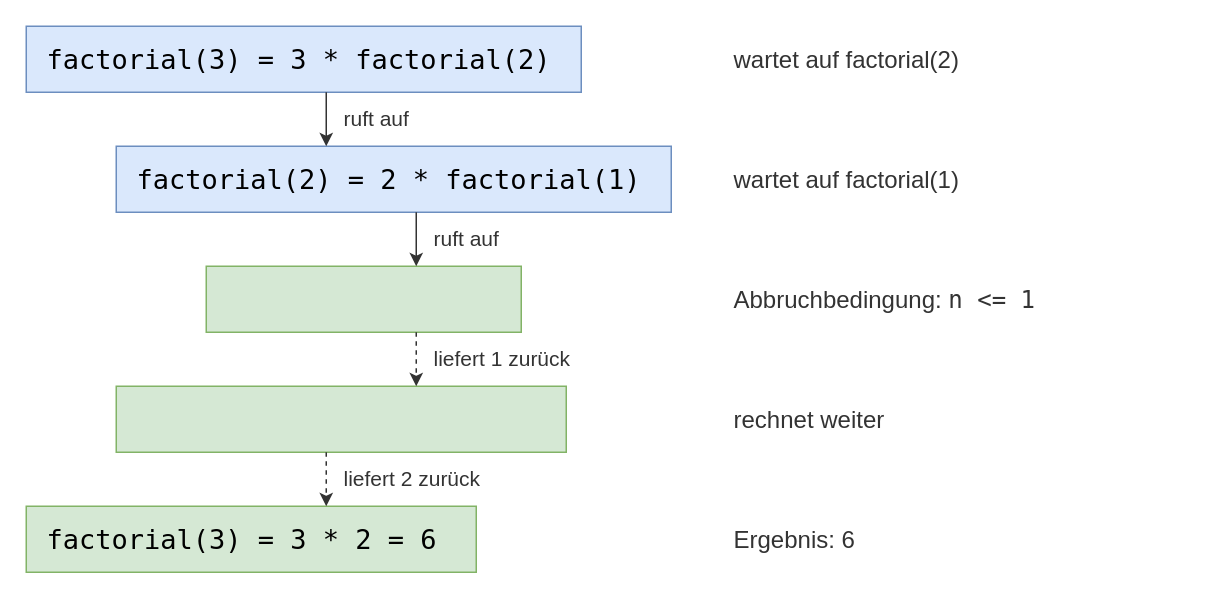
The diagram is 1208 pixels wide and 599 high, and some of its shapes have lost their labels. The box of each missing label's shape, as (x1, y1, x2, y2) in pixels:
factorial(1) = 1: (205, 265, 521, 332)
factorial(2) = 2 * 1 = 2: (115, 385, 566, 452)
